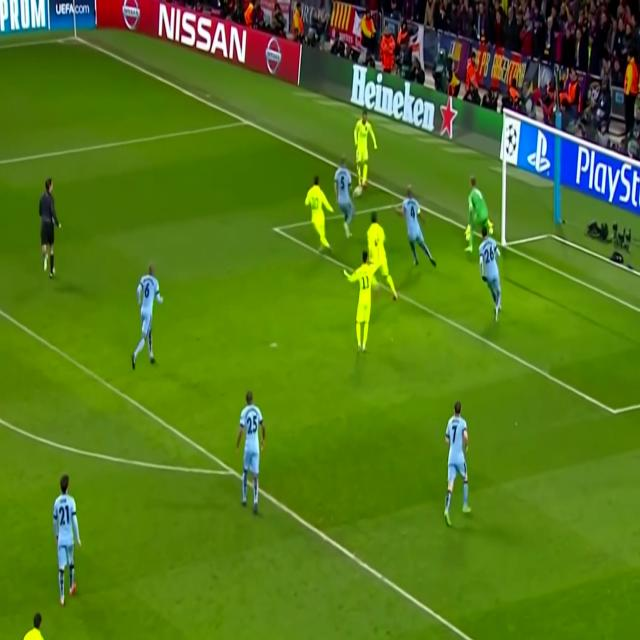Ball: (354, 184, 363, 198)
GoalKeeper: (464, 177, 496, 259)
TEAM 1: (362, 215, 398, 300), (304, 175, 340, 258), (349, 254, 378, 357), (354, 112, 379, 194), (21, 614, 47, 638)
TEAM 2: (52, 477, 82, 604), (236, 393, 266, 514), (443, 401, 472, 524), (396, 189, 438, 270), (132, 263, 164, 368), (477, 227, 504, 323), (334, 158, 358, 235)
